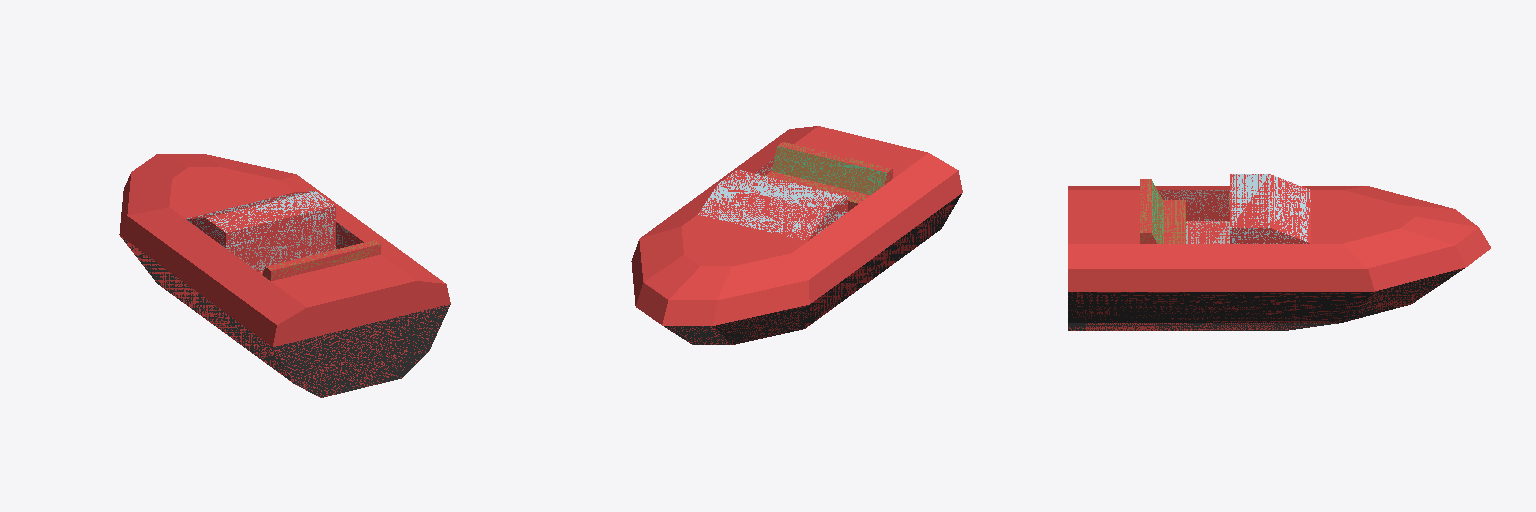
The model's file is boat_015.obj.
3 renders of one model, left to right at view 1: azimuth 30°, elevation 25°; view 2: azimuth 150°, elevation 25°; view 3: azimuth 270°, elevation 25°, orthographic.
Visible parts, largest first — view 1: boat_015; view 2: boat_015; view 3: boat_015.
Boxes of the visible parts, box(x1,y1,x2,y2) form: boat_015: box(119, 154, 450, 397); boat_015: box(631, 126, 962, 344); boat_015: box(1068, 174, 1490, 330).
Bounding box in the file's own units: 1.78 × 1.05 × 3.67.